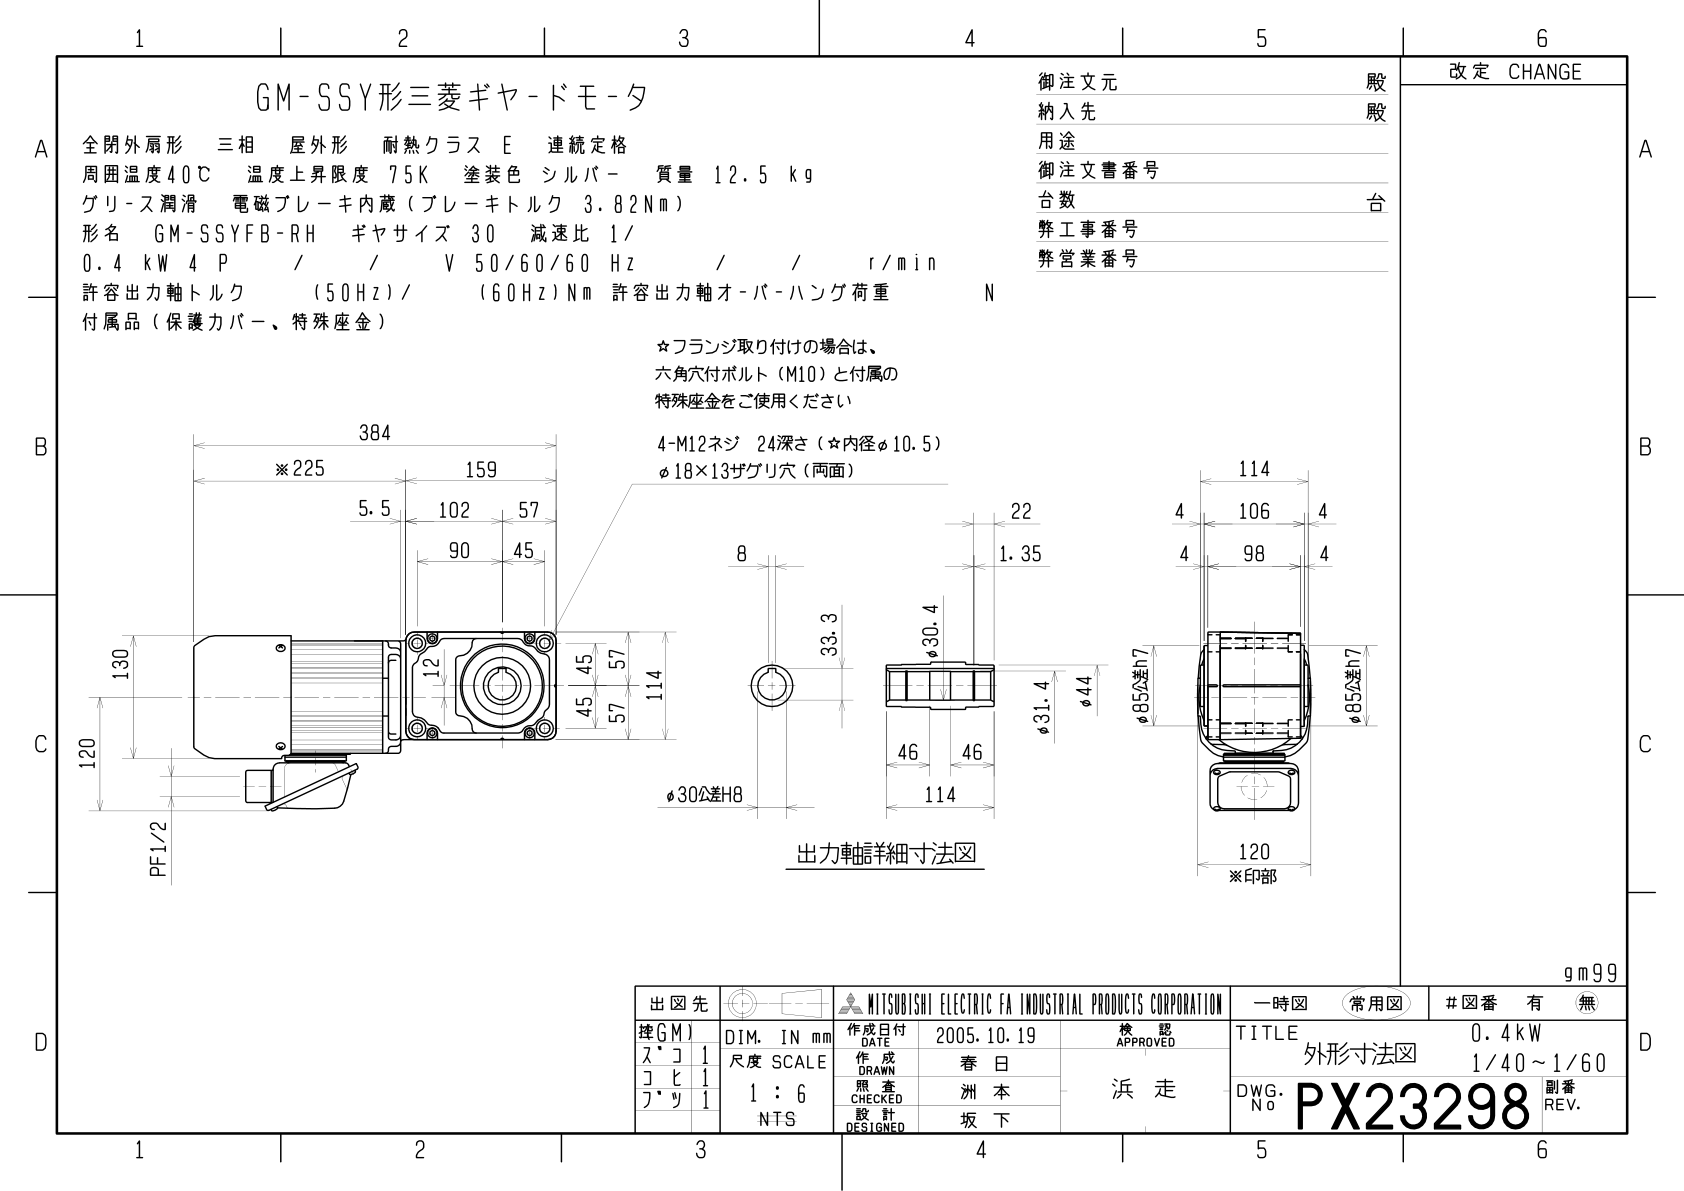GM_SSY_インバータ屋外_三相: (63, 333, 1389, 934)
